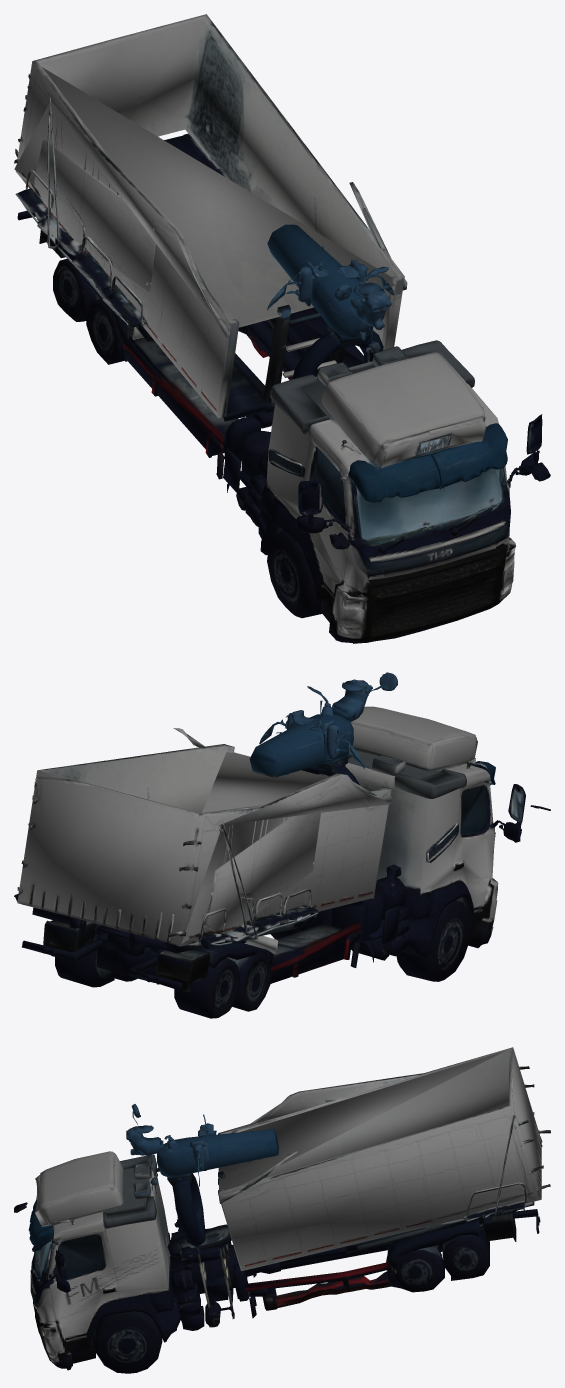
Rendered from a2537677-6c28-42e3-9f08-068c2edfb1f9.fbx.
3 renders of one model, top to bottom at view 1: azimuth 30°, elevation 25°; view 2: azimuth 150°, elevation 25°; view 3: azimuth 270°, elevation 25°, orthographic. The views are drawn at different scales.
Visible parts, largest first — view 1: tripo_node_10683f00; view 2: tripo_node_10683f00; view 3: tripo_node_10683f00.
Part boxes in pixels (x1,y1,x2,y2): tripo_node_10683f00: (14,14,550,643); tripo_node_10683f00: (14,672,550,1018); tripo_node_10683f00: (14,1047,550,1373).
Bounding box in the file's own units: 0.3887 × 0.5605 × 0.998.
